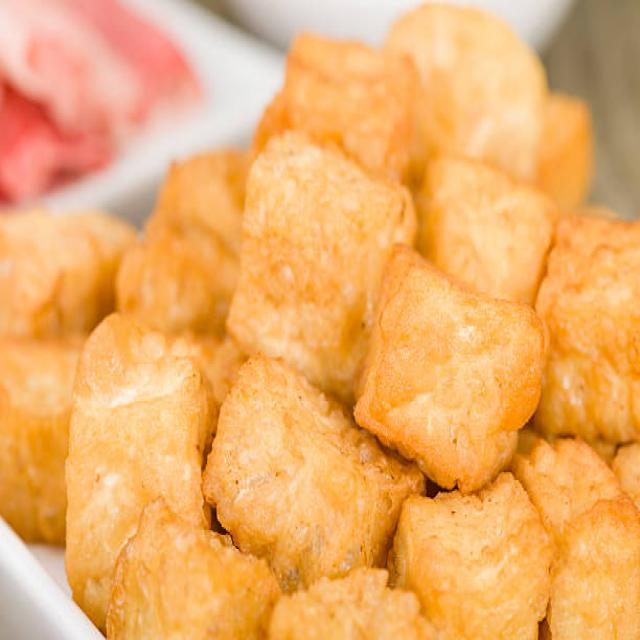Tofu Block: (350, 248, 548, 492), (209, 360, 375, 574), (230, 136, 370, 384), (61, 316, 207, 518)
